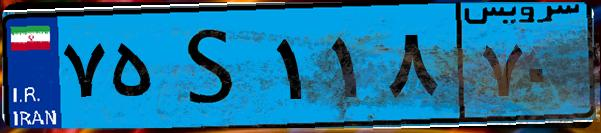0: (525, 38, 570, 115)
1: (270, 28, 330, 110), (330, 28, 385, 110)
5: (110, 28, 158, 98)
7: (57, 26, 110, 100), (475, 38, 525, 113)
8: (385, 28, 445, 110)
S: (158, 12, 270, 120)
